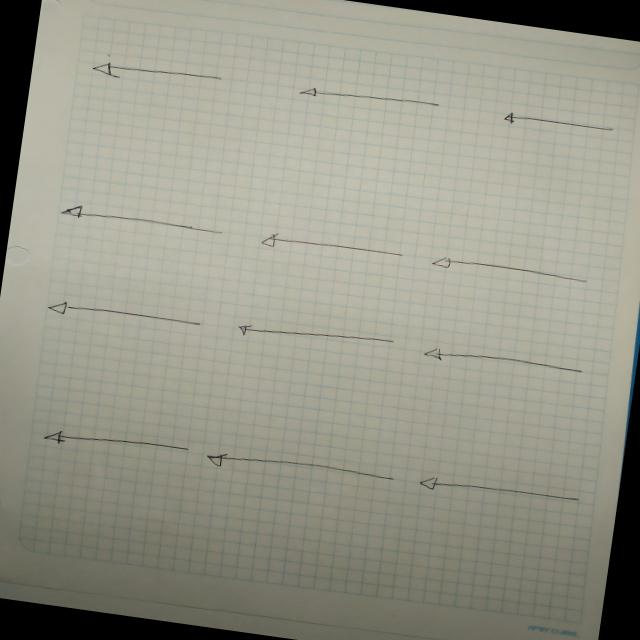arrow_line_left: (198, 442, 407, 498), (30, 286, 224, 344), (52, 192, 243, 250), (412, 336, 602, 394), (418, 244, 597, 300), (410, 469, 590, 522), (227, 314, 410, 366), (26, 418, 197, 472), (246, 222, 417, 272), (74, 49, 236, 97), (280, 76, 452, 120), (486, 100, 628, 150)
